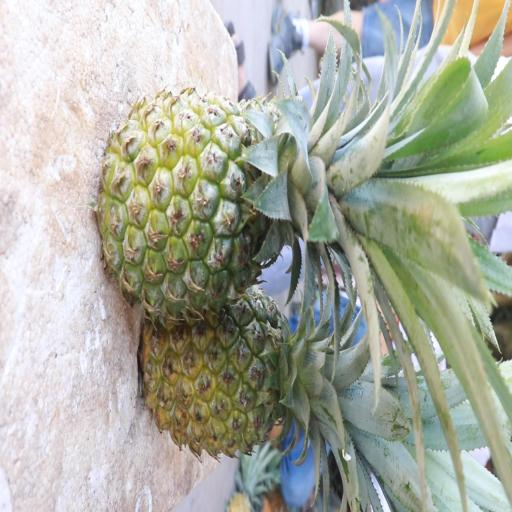------------------------------: (106, 95, 342, 321)
Pineapple - v8 v1: (144, 285, 342, 486)
